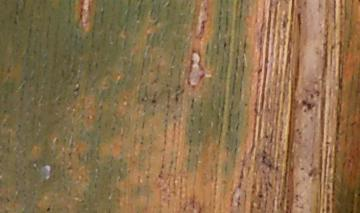tarspot: (305, 102, 316, 112), (337, 76, 344, 91), (72, 85, 81, 94), (12, 15, 19, 26), (5, 65, 13, 74), (349, 119, 358, 127), (300, 99, 308, 107), (224, 144, 231, 153), (67, 150, 73, 160), (308, 92, 315, 100), (255, 67, 262, 75), (314, 89, 320, 98), (256, 193, 265, 199), (222, 40, 227, 50), (150, 98, 157, 105), (262, 134, 269, 141), (44, 206, 52, 212), (324, 140, 332, 146), (266, 163, 273, 169), (261, 155, 267, 161), (298, 166, 306, 170), (140, 96, 145, 102), (242, 102, 249, 106), (294, 128, 300, 132)
